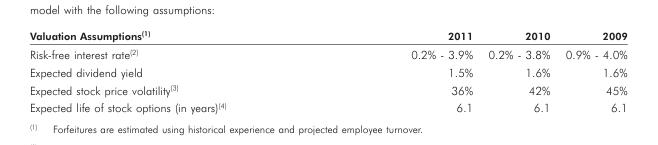table: (28, 28, 626, 114)
table column: (28, 28, 317, 114), (317, 28, 479, 114), (479, 28, 557, 114), (557, 28, 626, 114)
table column header: (28, 28, 626, 43)
table row: (28, 43, 626, 62), (28, 62, 626, 80), (28, 80, 626, 98), (28, 98, 626, 114), (28, 28, 626, 43)
